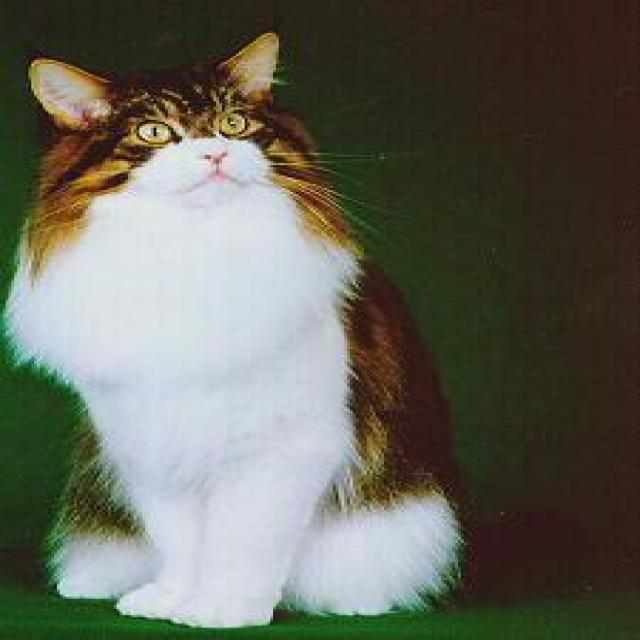Maine_Coon: (31, 30, 283, 226)
